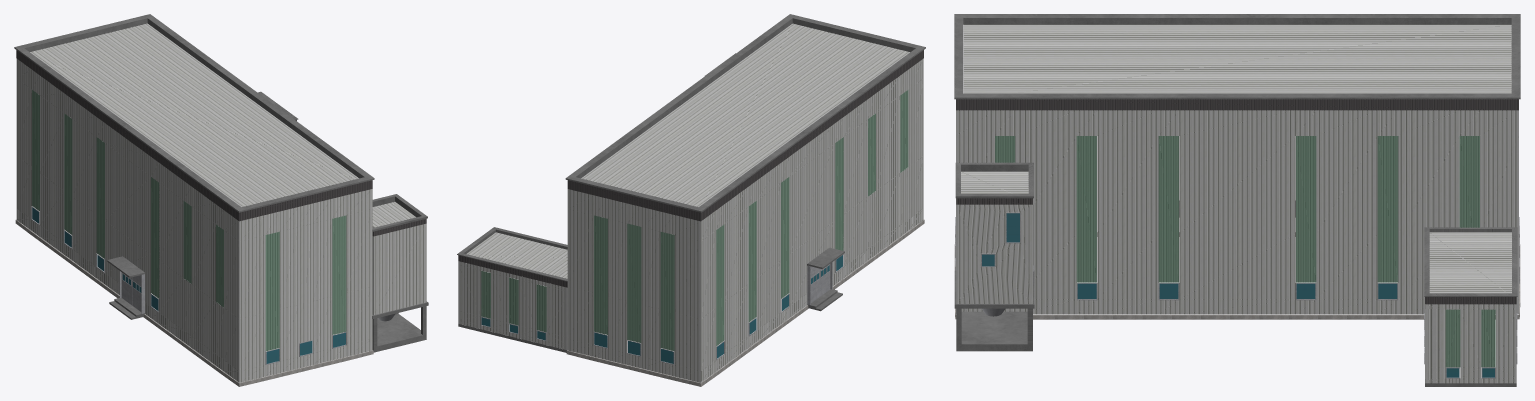
Rendered from 干燥室.glb.
3 views of the same model, side by side, from view 1: azimuth 30°, elevation 25°; view 2: azimuth 150°, elevation 25°; view 3: azimuth 270°, elevation 25° (orthographic). The views are drawn at different scales.
Visible parts, largest first — view 1: 干燥室07, 干燥室06, 干燥室02, 干燥室05, 干燥室03, 干燥室00, 干燥室01; view 2: 干燥室07, 干燥室02, 干燥室06, 干燥室05, 干燥室03, 干燥室00, 干燥室01; view 3: 干燥室07, 干燥室06, 干燥室02, 干燥室05, 干燥室03, 干燥室01, 干燥室00.
Part boxes in pixels (x1,y1,x2,y2): 干燥室07: (16, 23, 426, 382); 干燥室06: (14, 14, 428, 352); 干燥室02: (32, 90, 346, 350); 干燥室05: (16, 50, 426, 236); 干燥室03: (15, 219, 373, 386); 干燥室00: (31, 206, 346, 364); 干燥室01: (32, 207, 345, 363); 干燥室07: (458, 23, 923, 382); 干燥室02: (481, 90, 908, 351); 干燥室06: (457, 14, 925, 352); 干燥室05: (458, 50, 923, 287); 干燥室03: (566, 219, 924, 386); 干燥室00: (480, 254, 843, 364); 干燥室01: (481, 255, 842, 363); 干燥室07: (956, 24, 1518, 383); 干燥室06: (954, 14, 1520, 386); 干燥室02: (995, 136, 1495, 367); 干燥室05: (956, 99, 1518, 304); 干燥室03: (954, 232, 1520, 319); 干燥室01: (982, 213, 1494, 377); 干燥室00: (955, 200, 1519, 378).
Bounding box in the file's own units: 25.97 × 16.82 × 38.86.
8 materials, 8 textured.
